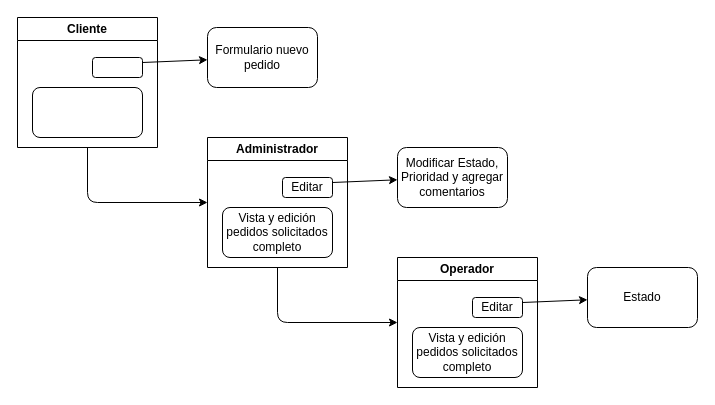
The diagram is 715 pixels wide and 405 high, and some of its shapes have lost their labels. Here are the shapes that lost their labels. From the top down, the centre of each, then its label:
At (117,67): "Nuevo".
At (87,112): "Vista pedidos solicitados (con estado)".
